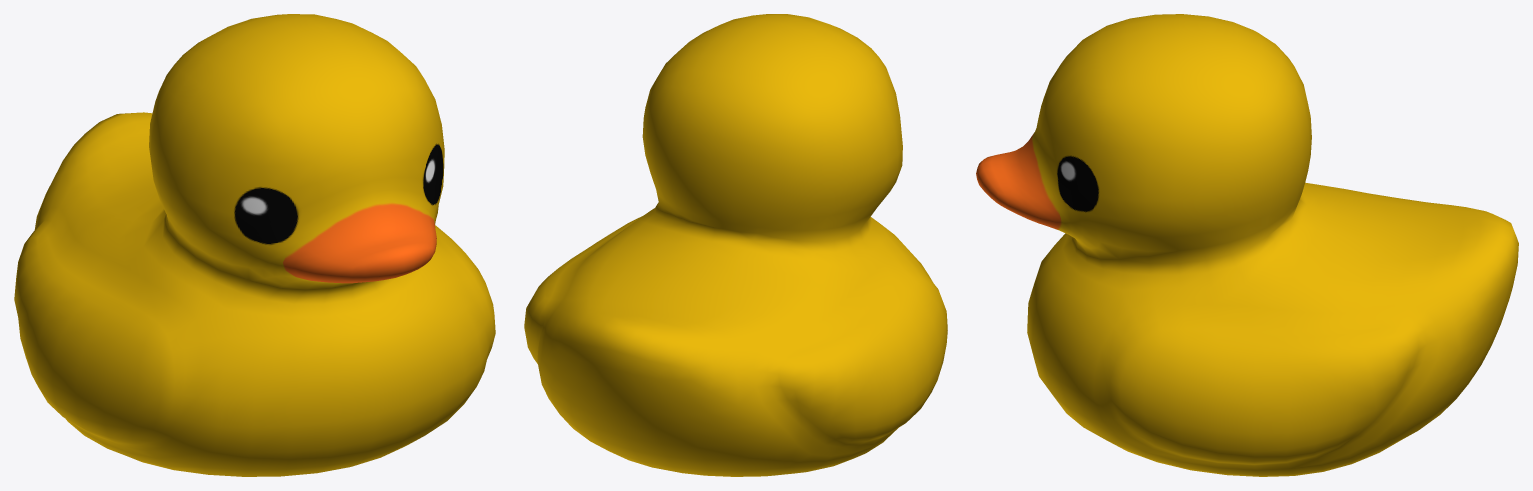
Rendered from rubber-duck.glb.
3 views of the same model, side by side, from view 1: azimuth 30°, elevation 25°; view 2: azimuth 150°, elevation 25°; view 3: azimuth 270°, elevation 25° (orthographic). The views are drawn at different scales.
Parts seen in each view (by area): view 1: duck; view 2: duck; view 3: duck.
Part boxes in pixels (left/top/right/bottom): duck: left=14, top=14, right=495, bottom=476; duck: left=524, top=14, right=947, bottom=476; duck: left=976, top=14, right=1518, bottom=476.
Size of the model in its own units: 0.0963 by 0.0932 by 0.1196.
Materials: 2 (1 with a texture image).
